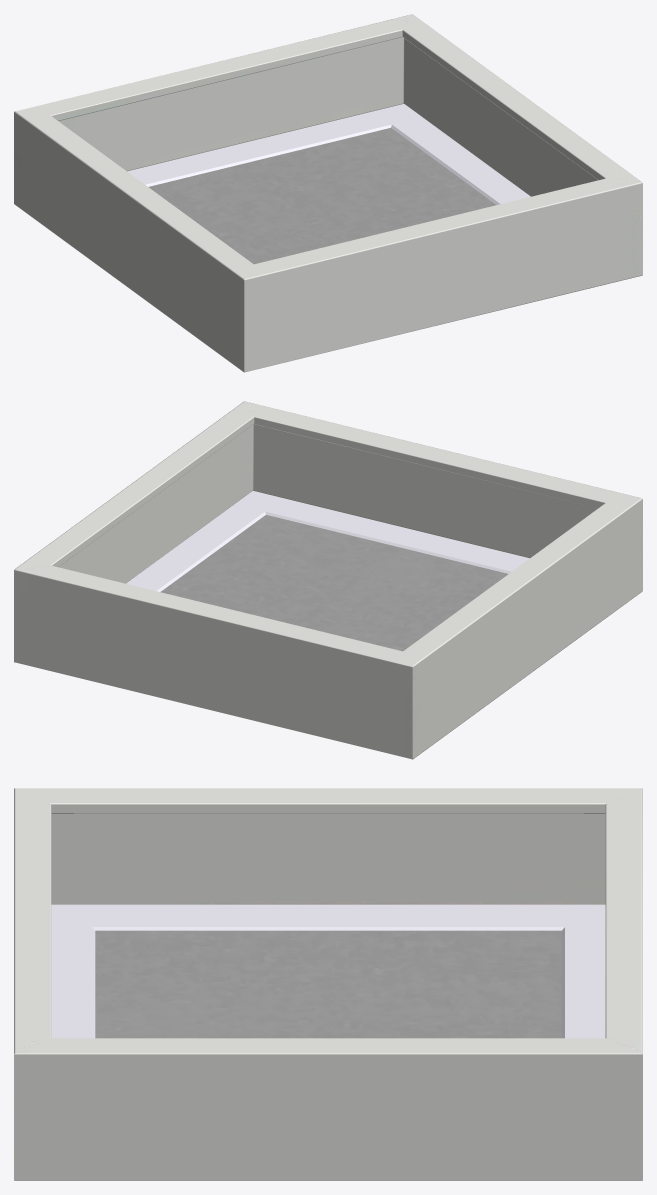
File: frame-small-white.glb
3 views of the same model, one above another, from view 1: azimuth 30°, elevation 25°; view 2: azimuth 150°, elevation 25°; view 3: azimuth 270°, elevation 25° (orthographic). The views are drawn at different scales.
Visible parts, largest first — view 1: 1, 2; view 2: 1, 2; view 3: 1, 2.
Boxes of the visible parts, x1,y1,x2,y2 form: 1: (14, 14, 642, 372); 2: (148, 127, 496, 264); 1: (14, 401, 642, 759); 2: (160, 514, 508, 651); 1: (14, 788, 642, 1180); 2: (95, 930, 561, 1038).
Size of the model in its own units: 0.268 by 0.0601 by 0.268.
Materials: 2 (2 with a texture image).
